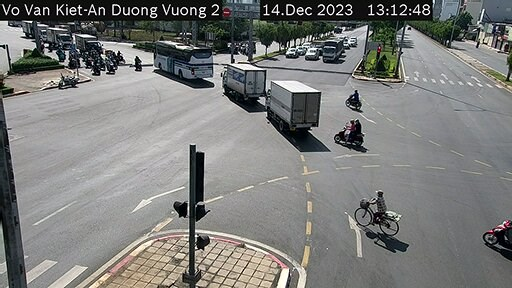car: (146, 36, 213, 93), (303, 46, 320, 63), (285, 46, 298, 59)
motorbike: (485, 209, 509, 257), (342, 114, 369, 150), (345, 88, 363, 107)
truck: (265, 73, 326, 133), (223, 59, 268, 102), (45, 22, 73, 46), (325, 36, 346, 63), (78, 32, 102, 54)
